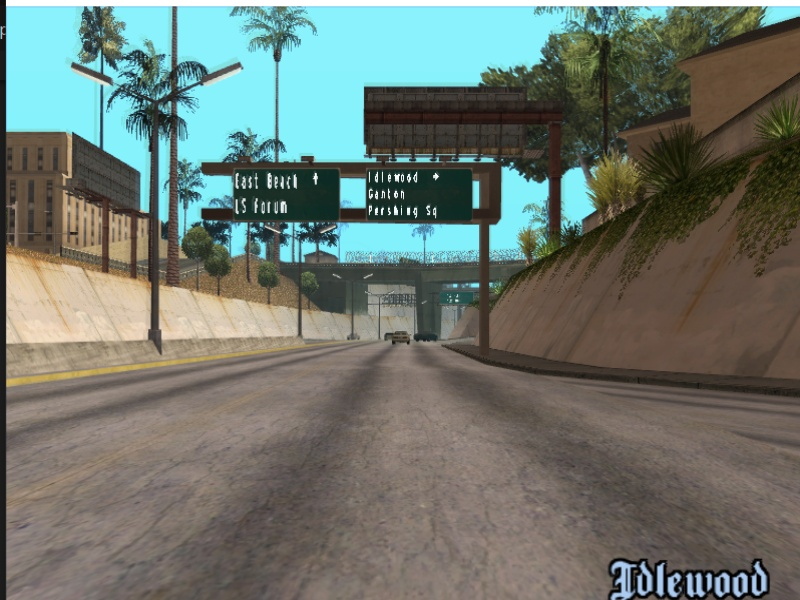pole: (150, 103, 164, 352), (480, 220, 493, 358), (297, 239, 304, 342), (349, 281, 356, 339), (377, 296, 381, 344)
vehicle: (414, 330, 439, 344), (392, 331, 411, 345)
